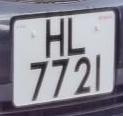1: (92, 51, 105, 97)
2: (71, 53, 94, 98)
7: (25, 56, 53, 104), (48, 56, 72, 101)
H: (41, 15, 67, 64)
L: (65, 15, 88, 61)
